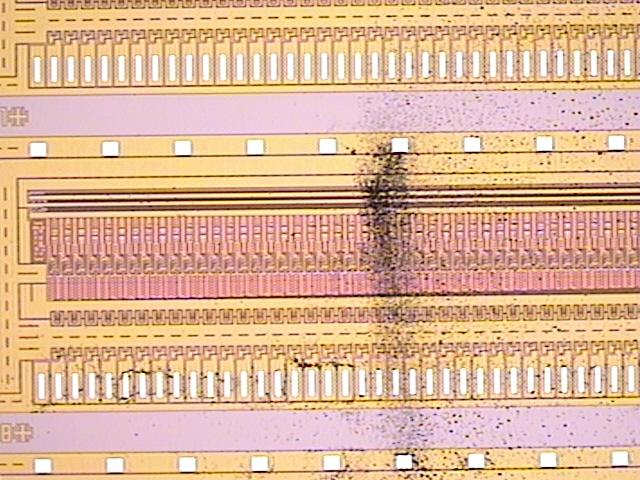PO CONTAMINATION: (27, 1, 640, 480)
